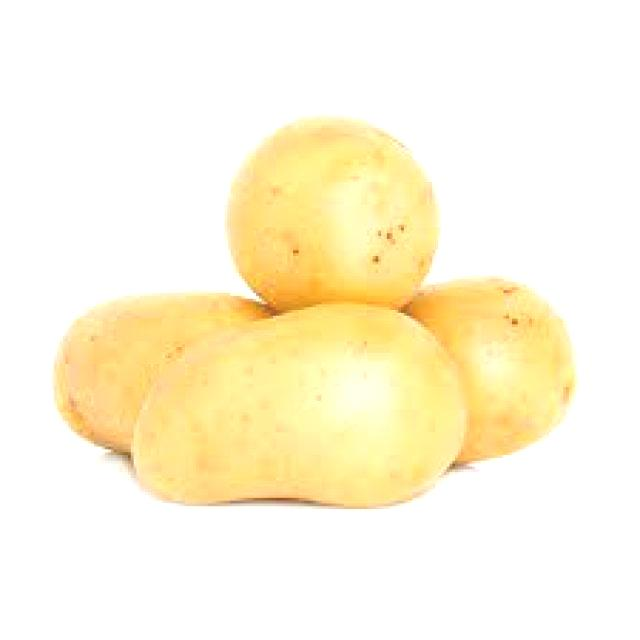potato: (136, 308, 465, 508), (227, 115, 444, 308), (52, 294, 276, 457), (404, 277, 577, 468)
